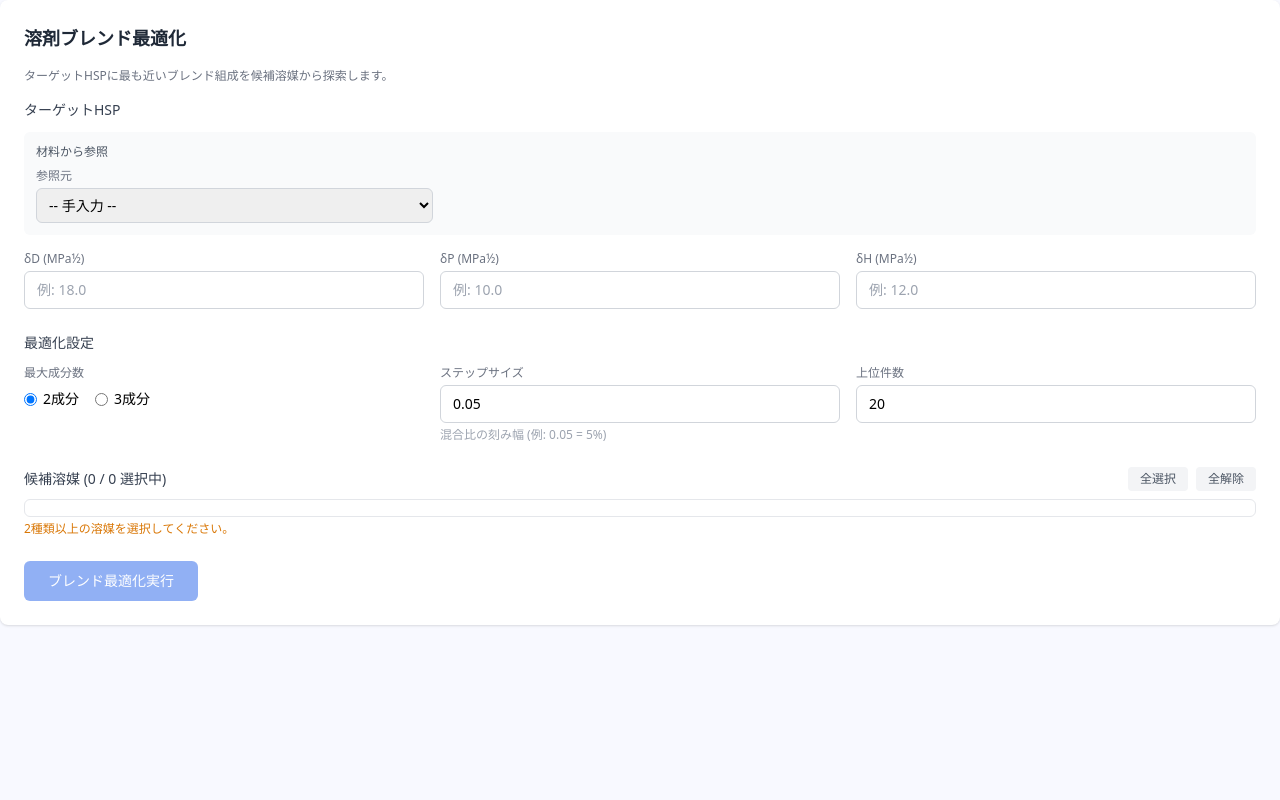
Test: BlendOptimizerView - 材料からターゲットHSP参照 › Part選択でδD/δP/δHが自動入力される
The width and height of the screenshot is (1280, 800).
Select "Part" type
Step 1. Select "ポリマー材料" in the dropdown labelled "参照元" → point(235, 206), box [36,188,433,223]
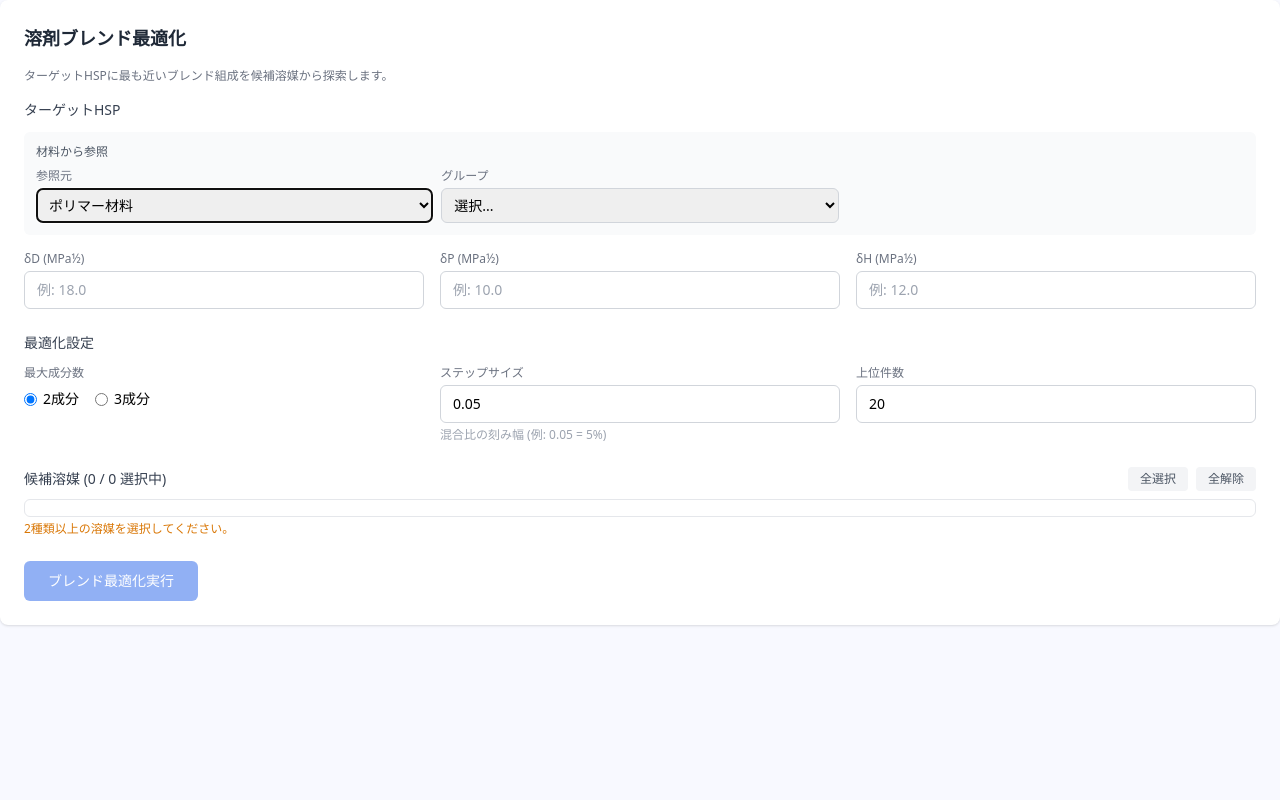
Expected: the dropdown labelled "グループ" is shown
Select group
Step 2. Select "テストグループ" in the dropdown labelled "グループ" → point(640, 206), box [441,188,839,223]
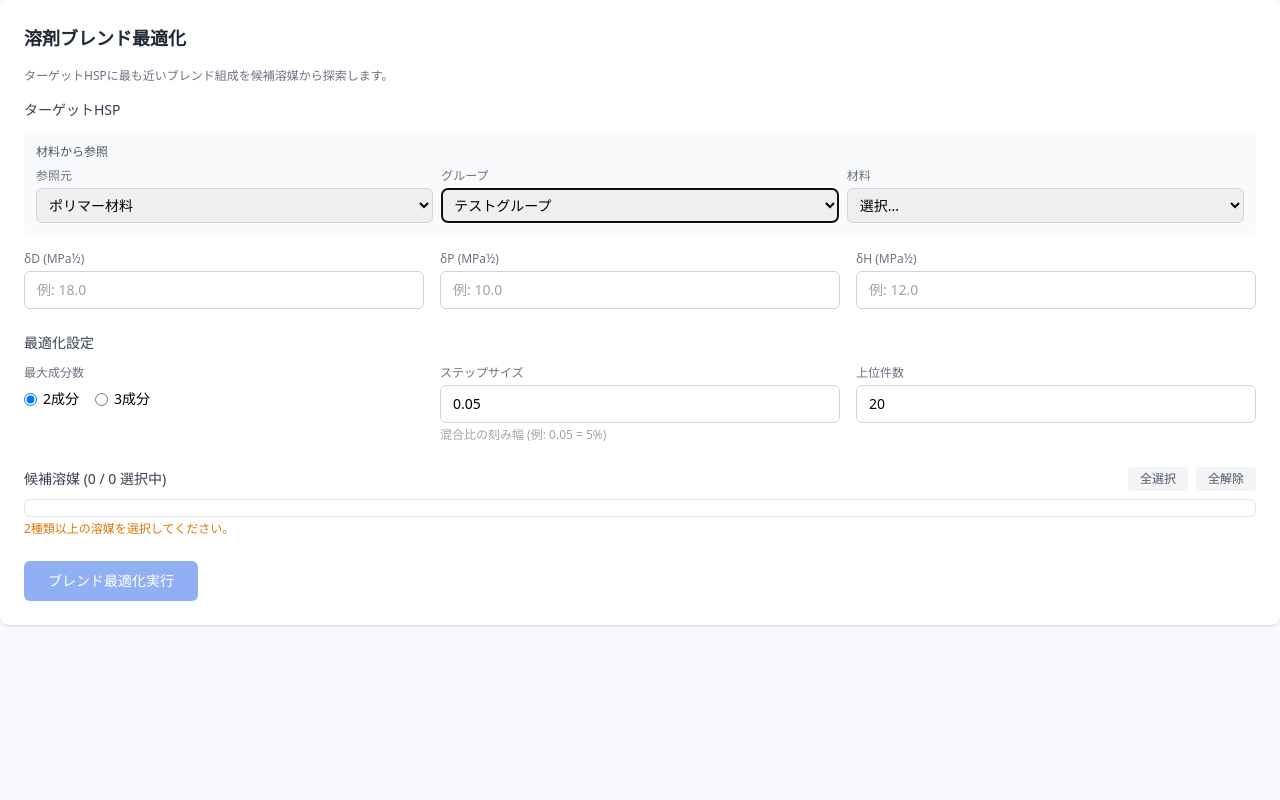
Expected: the dropdown labelled "材料" is shown
Select part (PMMA)
Step 3. Select "PMMA" in the dropdown labelled "材料" → point(1045, 206), box [847,188,1244,223]
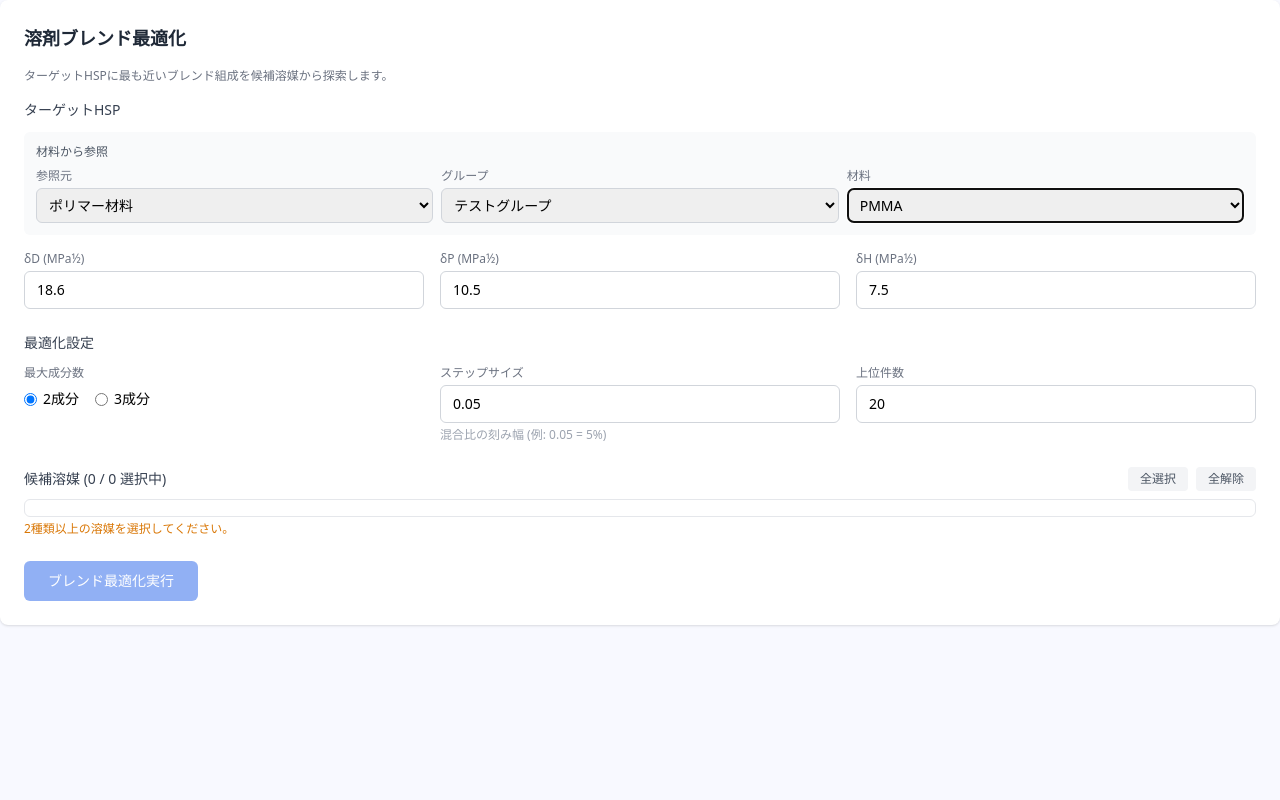
Expected: the number field below "δD (MPa½)" holds "18.6", [24,271,424,309]
Expected: the number field below "δP (MPa½)" holds "10.5", [440,271,840,309]
Expected: the number field below "δH (MPa½)" holds "7.5", [856,271,1256,309]
